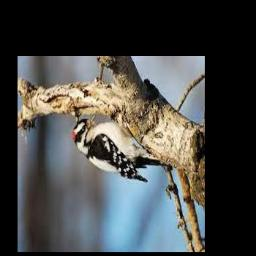Woodpecker: (73, 113, 173, 182)
